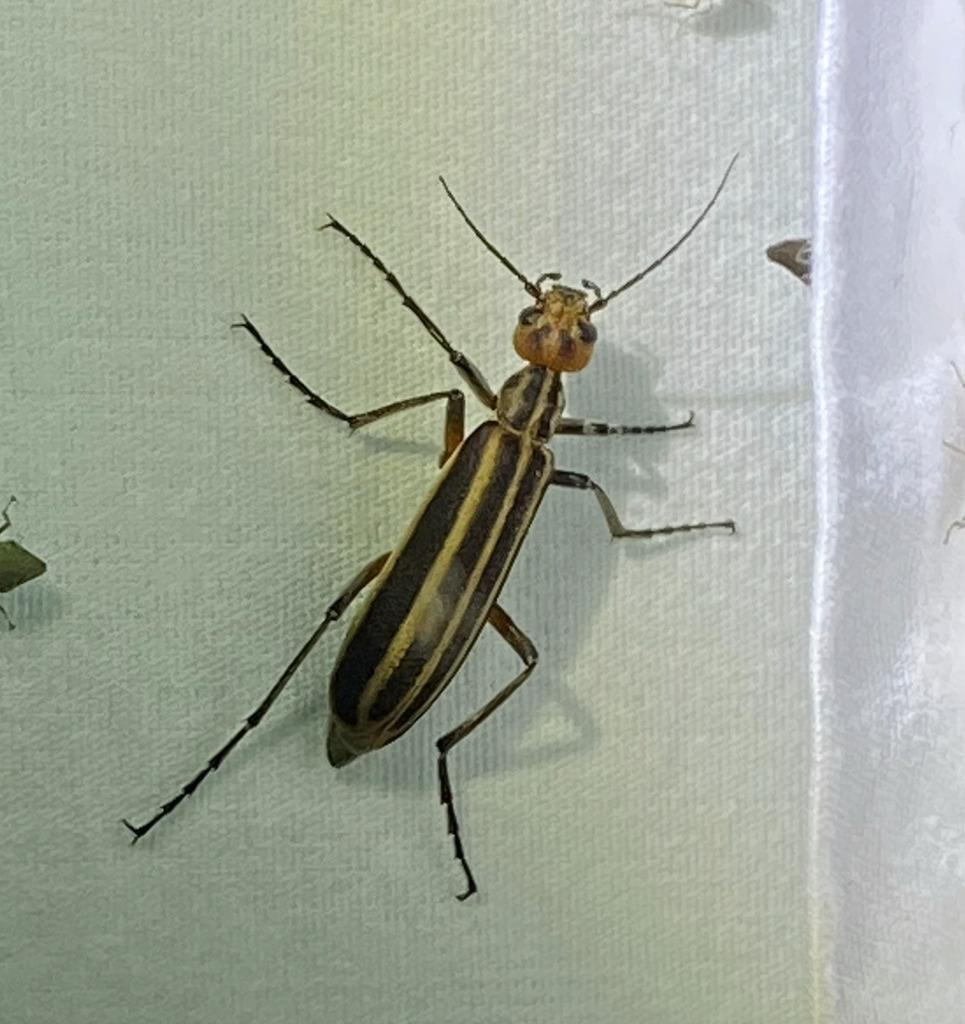blister_beetle: (30, 95, 953, 1024)
